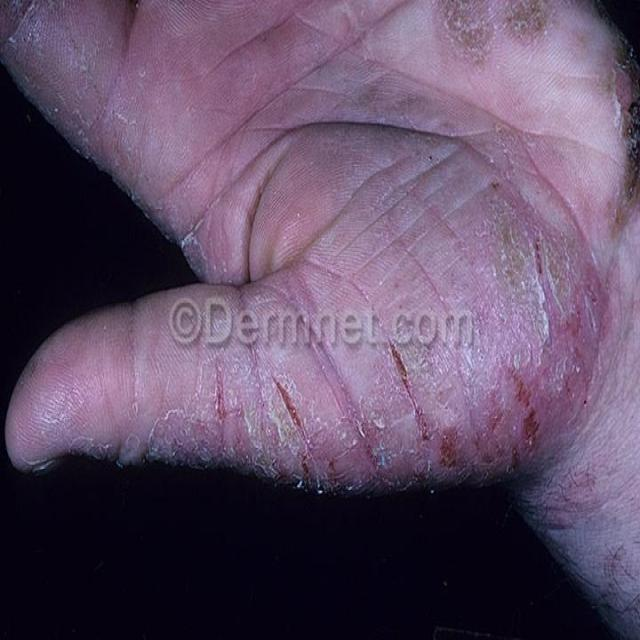Eczema: (19, 0, 640, 480)
